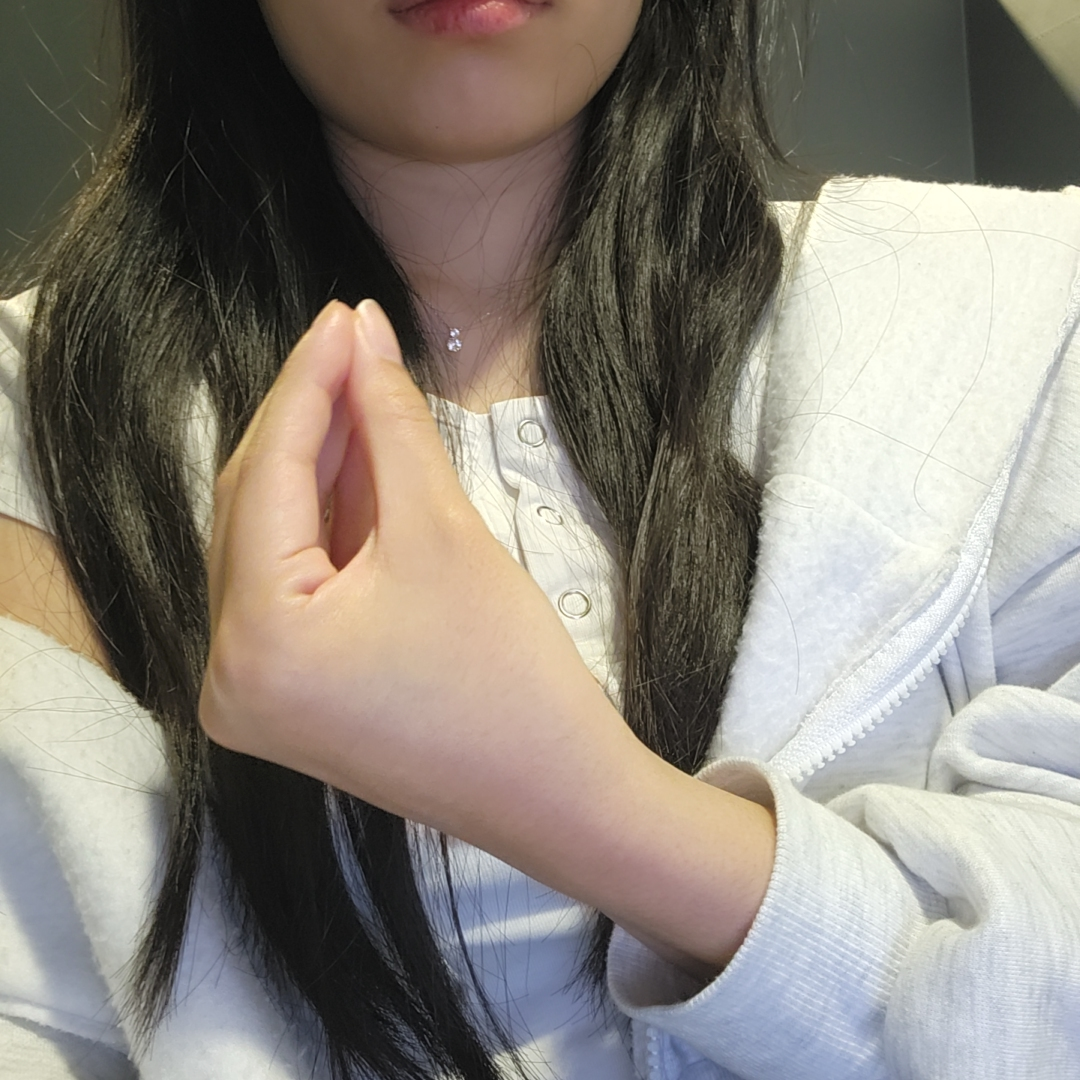happy: (195, 293, 577, 877)
